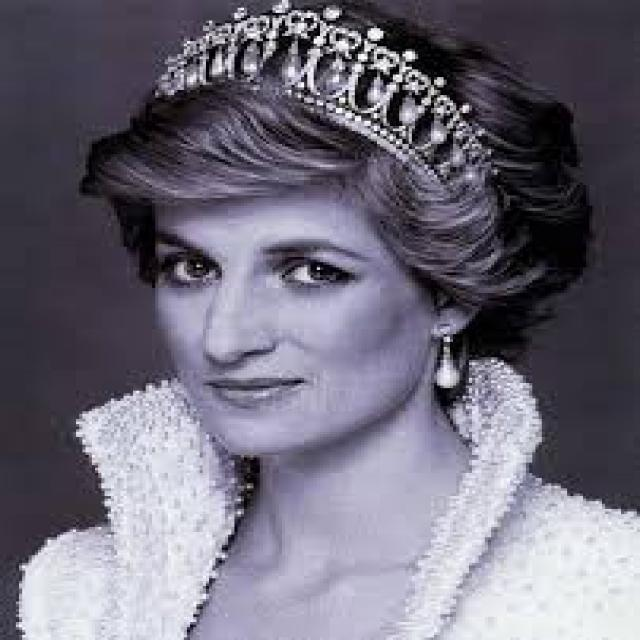Earring: (430, 314, 460, 401)
